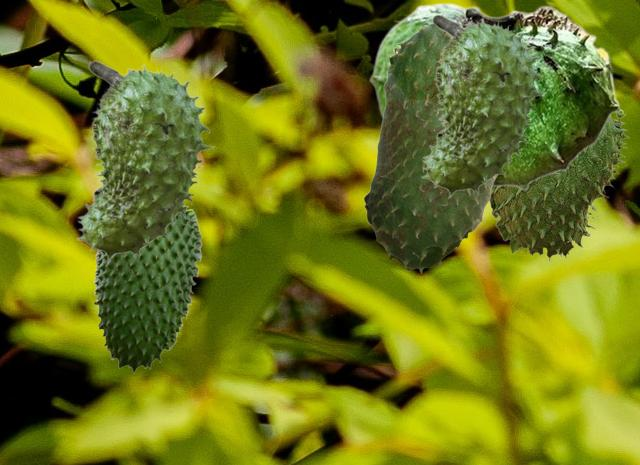guyabano: (369, 2, 619, 191), (362, 23, 497, 272), (75, 60, 214, 262), (420, 14, 546, 198), (489, 107, 629, 262), (93, 205, 201, 372)
